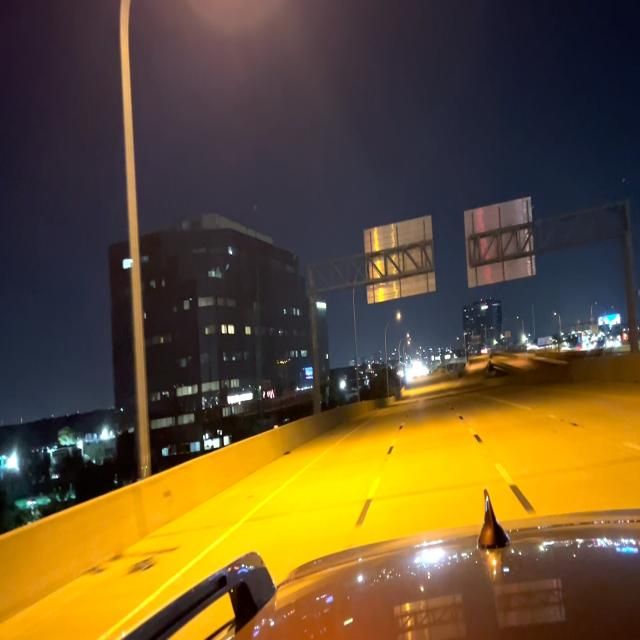back-of-sign: (462, 196, 537, 291), (362, 214, 438, 303)
